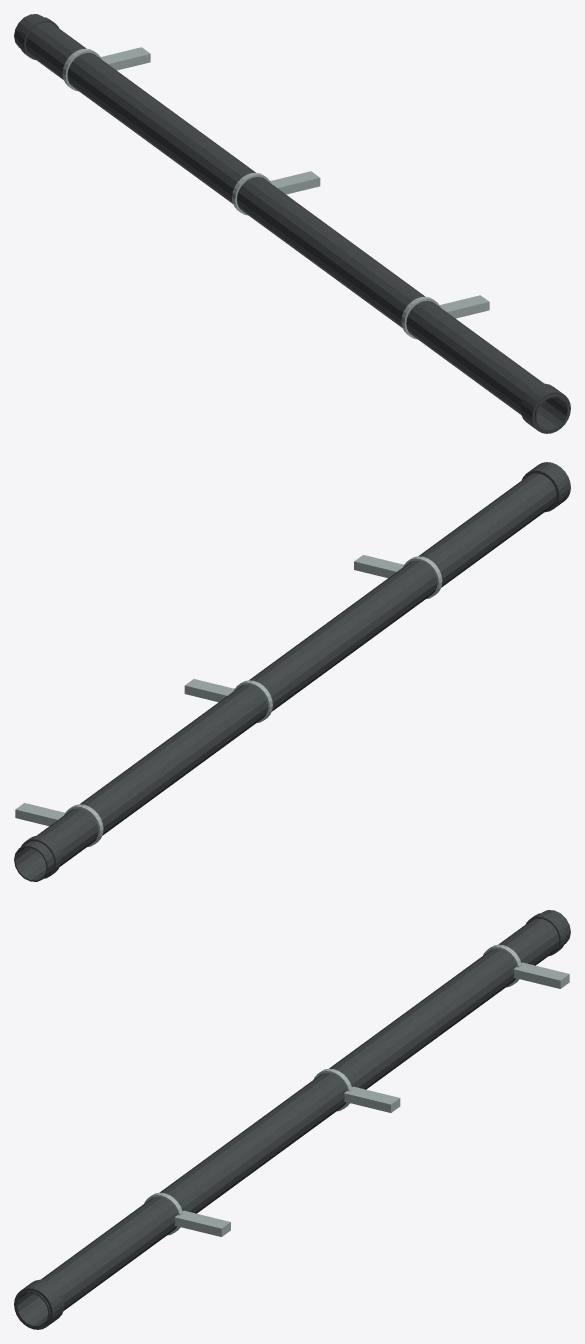
File: Downspout_2m.glb
The picture shows the model from 3 angles, top to bottom: view 1: azimuth 30°, elevation 25°; view 2: azimuth 150°, elevation 25°; view 3: azimuth 330°, elevation 25°; orthographic projection.
Visible parts, largest first — view 1: Pipe_Body_75mm, Upper_Female_Socket, Wall_Strap_Tab_2, Wall_Strap_Tab_3, Wall_Strap_Tab_1; view 2: Pipe_Body_75mm, Upper_Female_Socket, Wall_Strap_Tab_2, Wall_Strap_Tab_1, Wall_Strap_Tab_3; view 3: Pipe_Body_75mm, Upper_Female_Socket, Wall_Strap_Tab_2, Wall_Strap_Tab_1, Wall_Strap_Tab_3.
Part boxes in pixels (bbox=[...]): Pipe_Body_75mm: bbox=[14, 14, 568, 431]; Upper_Female_Socket: bbox=[520, 383, 570, 433]; Wall_Strap_Tab_2: bbox=[270, 171, 320, 194]; Wall_Strap_Tab_3: bbox=[440, 295, 489, 318]; Wall_Strap_Tab_1: bbox=[101, 47, 150, 70]; Pipe_Body_75mm: bbox=[14, 473, 556, 881]; Upper_Female_Socket: bbox=[522, 462, 570, 512]; Wall_Strap_Tab_2: bbox=[184, 679, 234, 702]; Wall_Strap_Tab_1: bbox=[15, 803, 64, 826]; Wall_Strap_Tab_3: bbox=[354, 555, 403, 577]; Pipe_Body_75mm: bbox=[16, 910, 570, 1327]; Upper_Female_Socket: bbox=[14, 1279, 64, 1329]; Wall_Strap_Tab_2: bbox=[344, 1086, 400, 1112]; Wall_Strap_Tab_1: bbox=[513, 962, 569, 988]; Wall_Strap_Tab_3: bbox=[174, 1210, 230, 1236].
Size of the model in its own units: 0.183 by 0.086 by 2.
2 materials, 2 textured.
